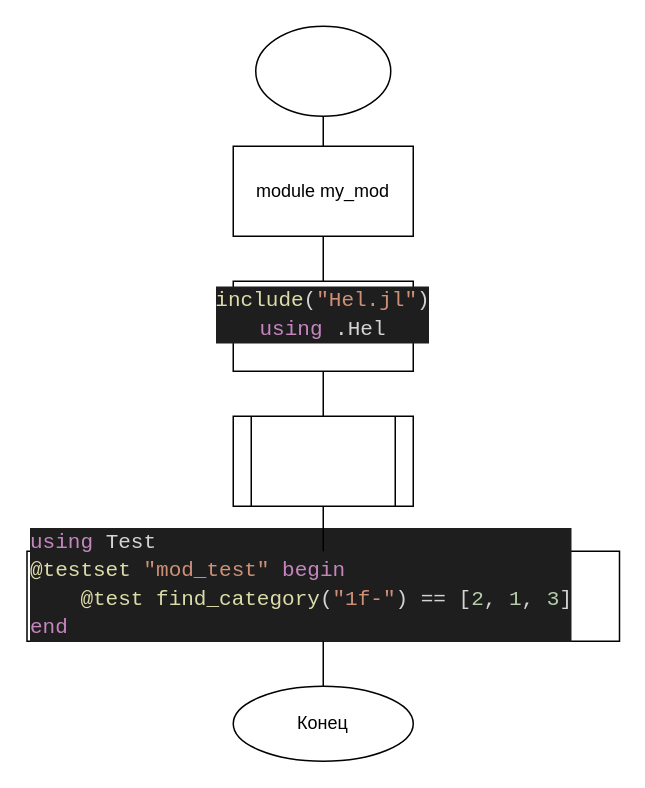
Image size: 645x788. Some labels were removed from this diagram. Each missing label, with the centre of its shape:
main(): (322,460)
Начало: (322,70)
